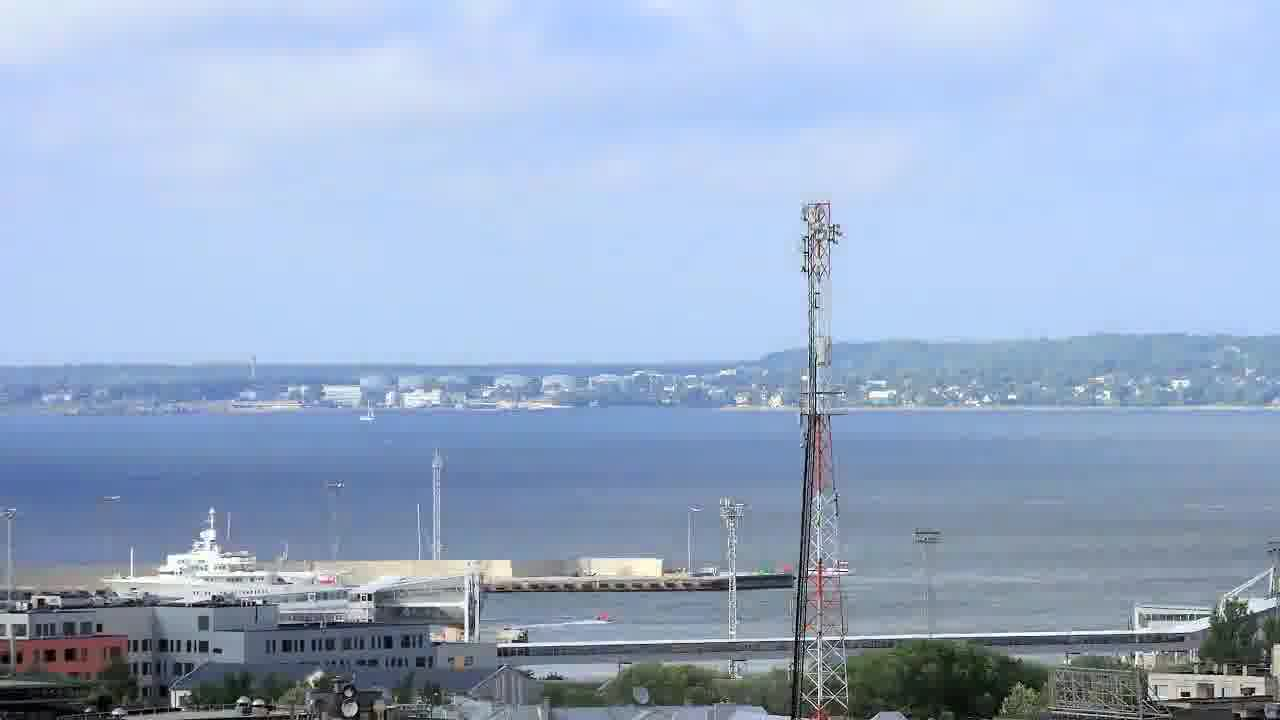type-1: (793, 545, 873, 588)
type-3: (90, 500, 376, 607)
type-4: (559, 607, 640, 635)
